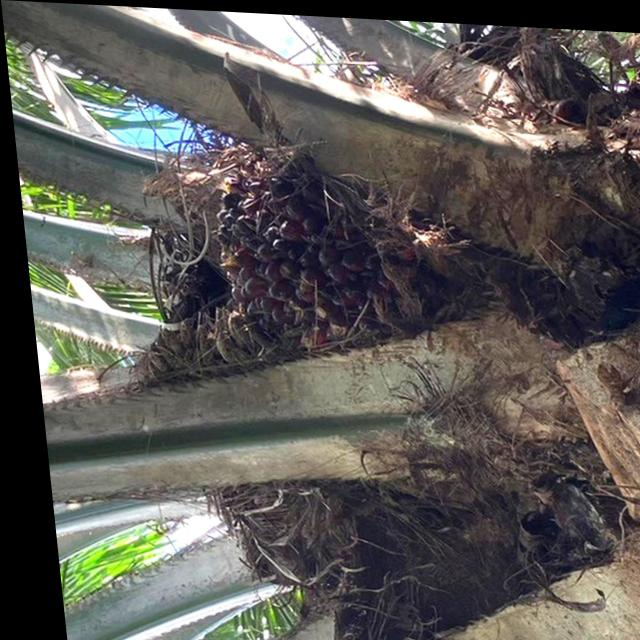ripe: (190, 127, 485, 378)
